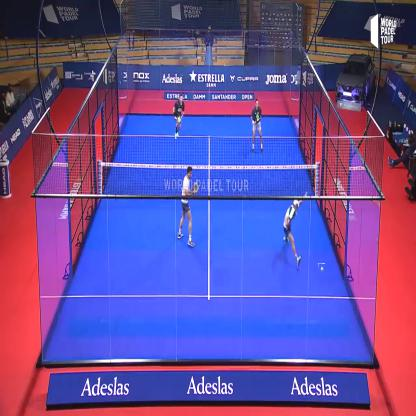ball: (318, 263, 326, 274)
